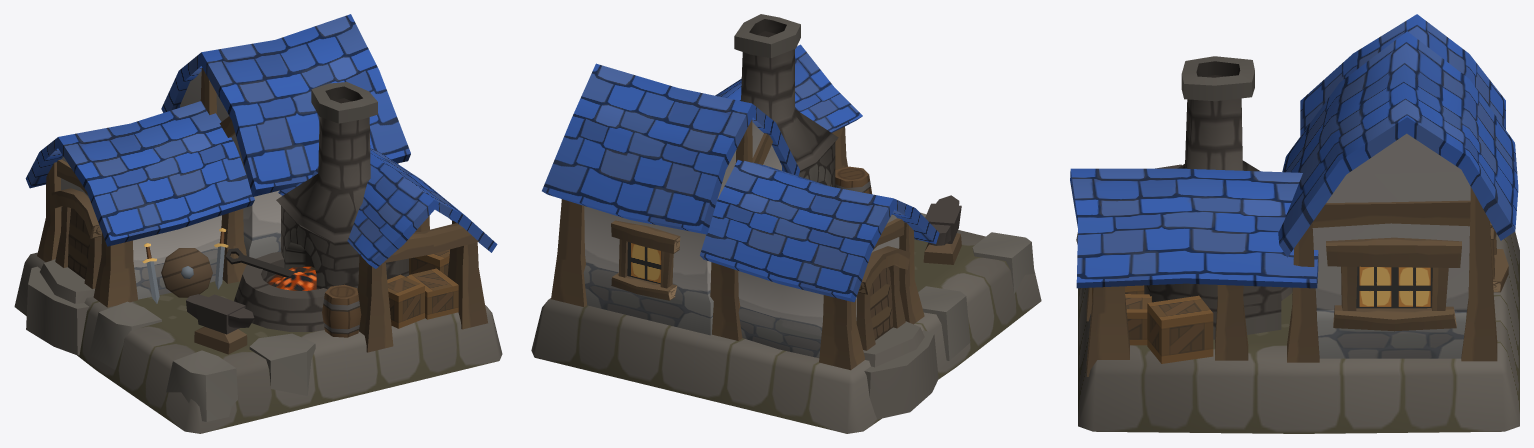
File: Blacksmith.FBX
3 renders of one model, left to right at view 1: azimuth 30°, elevation 25°; view 2: azimuth 150°, elevation 25°; view 3: azimuth 270°, elevation 25°, orthographic. The views are drawn at different scales.
Parts seen in each view (by area): view 1: Blacksmith; view 2: Blacksmith; view 3: Blacksmith.
Part boxes in pixels (<box>): Blacksmith: <box>14,14,502,433</box>; Blacksmith: <box>531,14,1041,433</box>; Blacksmith: <box>1070,14,1519,433</box>.
Size of the model in its own units: 701 by 496 by 670.
